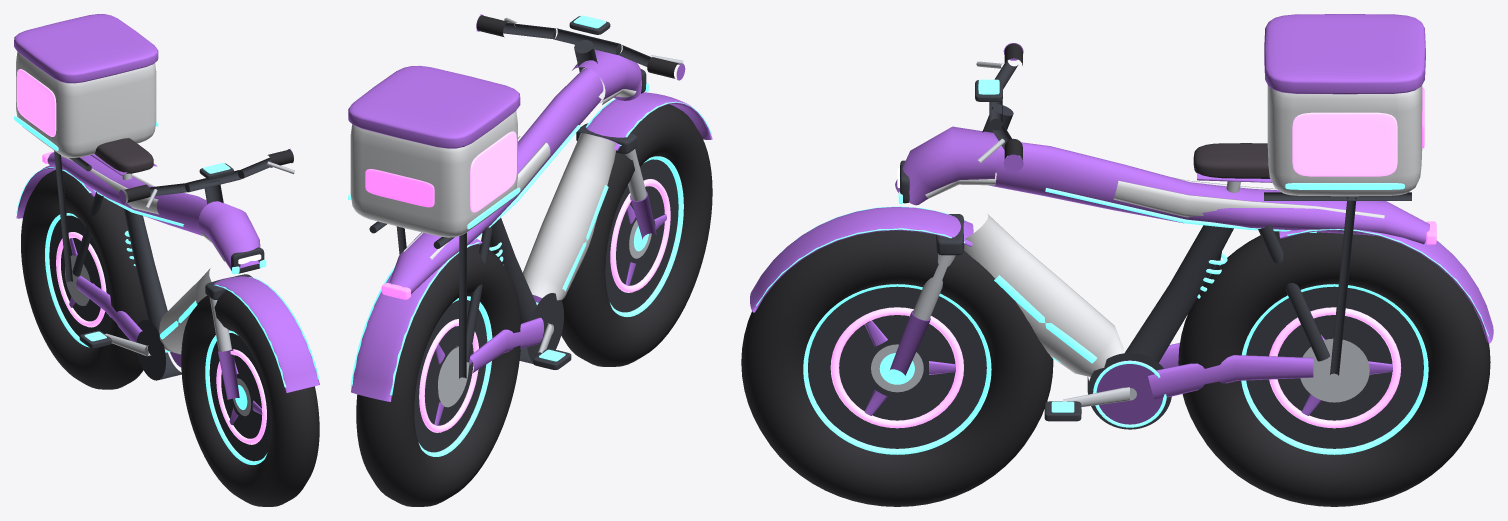
Rendered from ebike-nova.glb.
3 renders of one model, left to right at view 1: azimuth 30°, elevation 25°; view 2: azimuth 150°, elevation 25°; view 3: azimuth 270°, elevation 25°, orthographic. The views are drawn at different scales.
Visible parts, largest first — view 1: Frame, Front wheel, Rear wheel, Crank; view 2: Frame, Rear wheel, Front wheel, Crank; view 3: Frame, Front wheel, Rear wheel, Crank.
Part boxes in pixels (<box>): Frame: <box>14,14,319,399</box>; Front wheel: <box>181,289,319,506</box>; Rear wheel: <box>21,170,147,389</box>; Crank: <box>79,330,166,356</box>; Frame: <box>348,14,712,401</box>; Rear wheel: <box>356,244,521,506</box>; Front wheel: <box>561,104,712,366</box>; Crank: <box>533,323,571,369</box>; Frame: <box>750,14,1493,429</box>; Front wheel: <box>741,230,1053,506</box>; Rear wheel: <box>1178,231,1490,506</box>; Crank: <box>1044,360,1166,427</box>.
Bounding box in the file's own units: 0.762 × 1.44 × 2.13.
